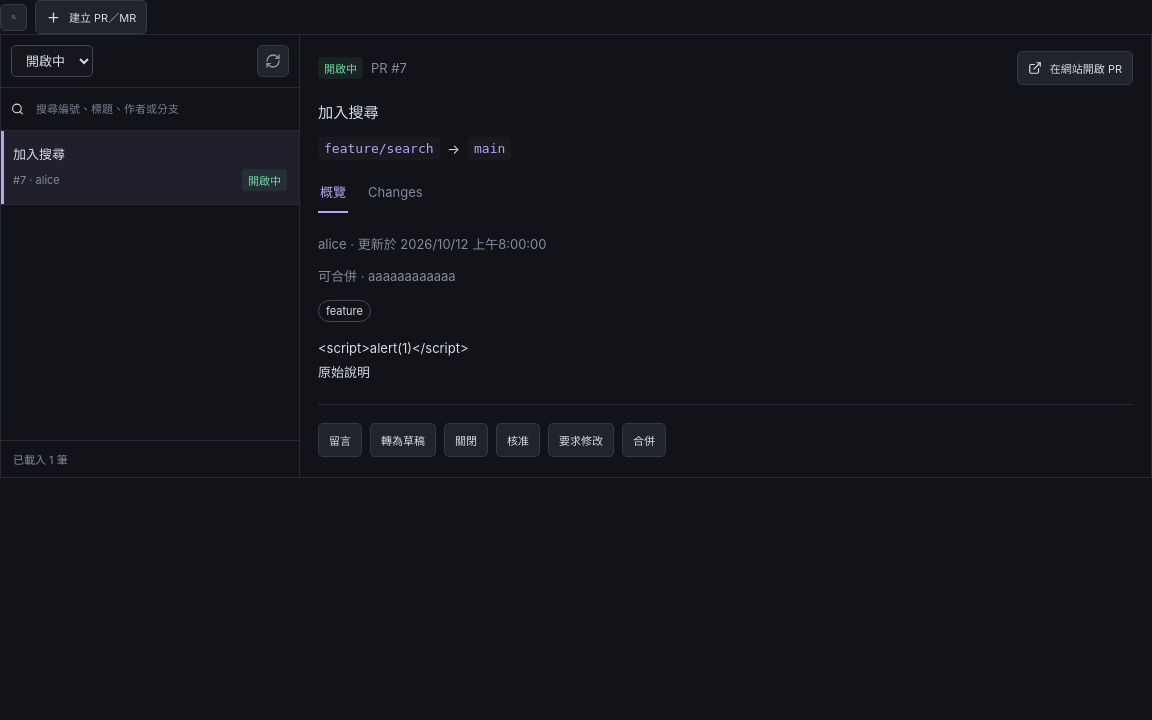
Test: 合併顯示方向與明確確認，使用所選方式與已查看的 commit
Click the button "合併". click: x=644, y=440
box: [622,423,666,457]
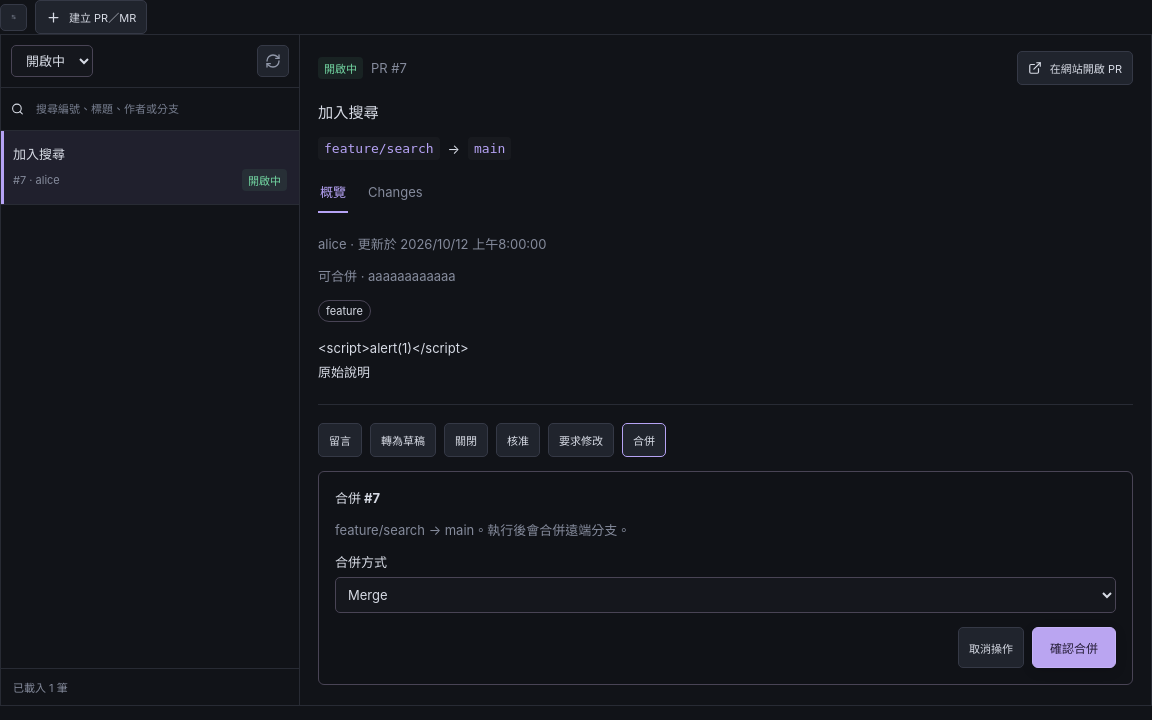
Result: the text "feature/search → main。執行後會合併遠端分支。" is shown at [335,522,630,538]
Select "Squash" in the dropdown named "PR／MR 合併方式". click: x=726, y=595
box: [335,577,1116,613]
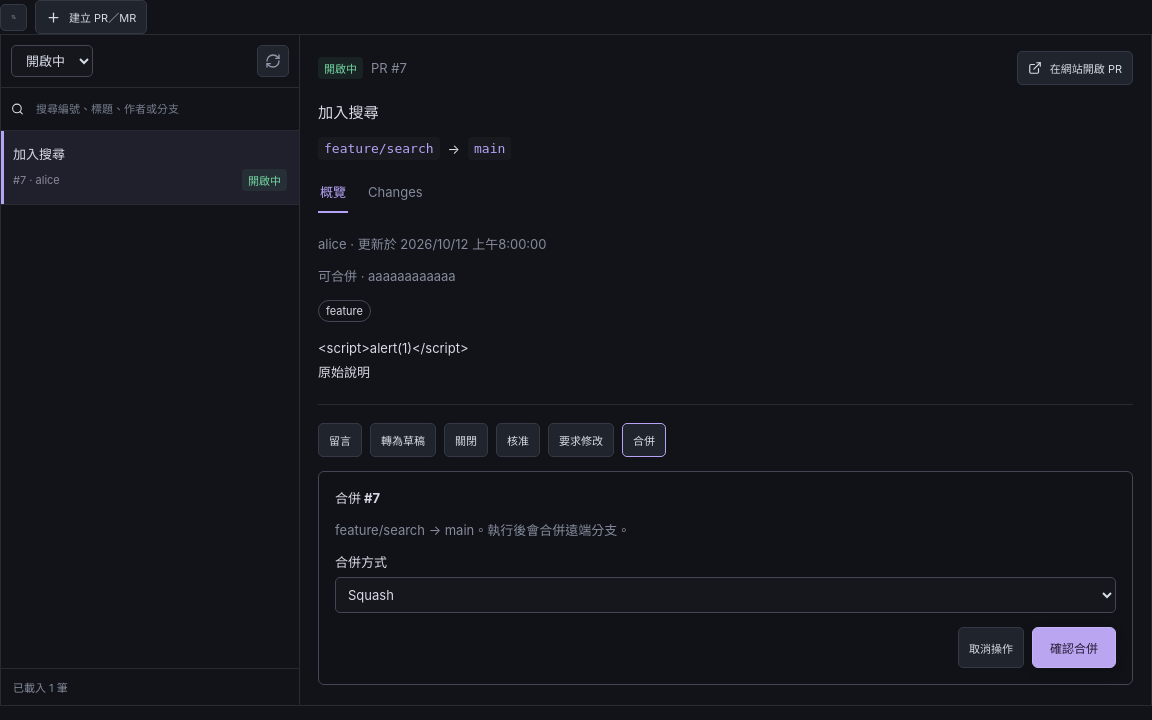
Click the button "確認合併". click: x=1074, y=648
box: [1032,627,1116,668]
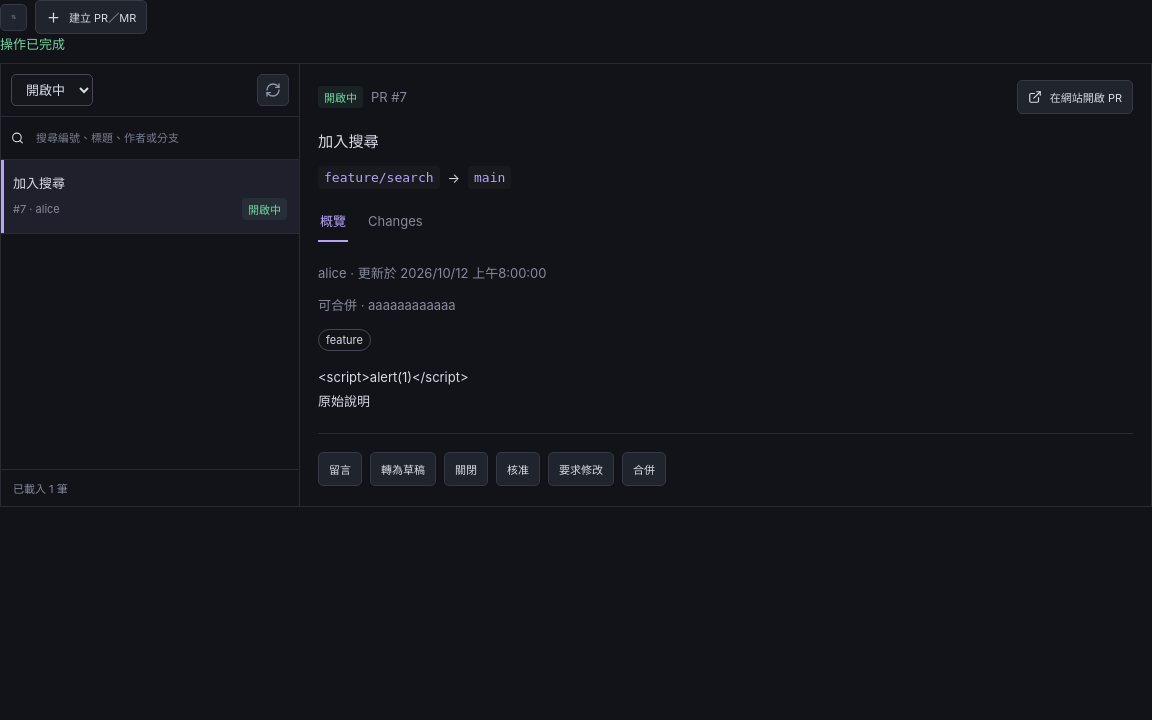
Result: the text "操作已完成" is shown at [0,36,65,52]
